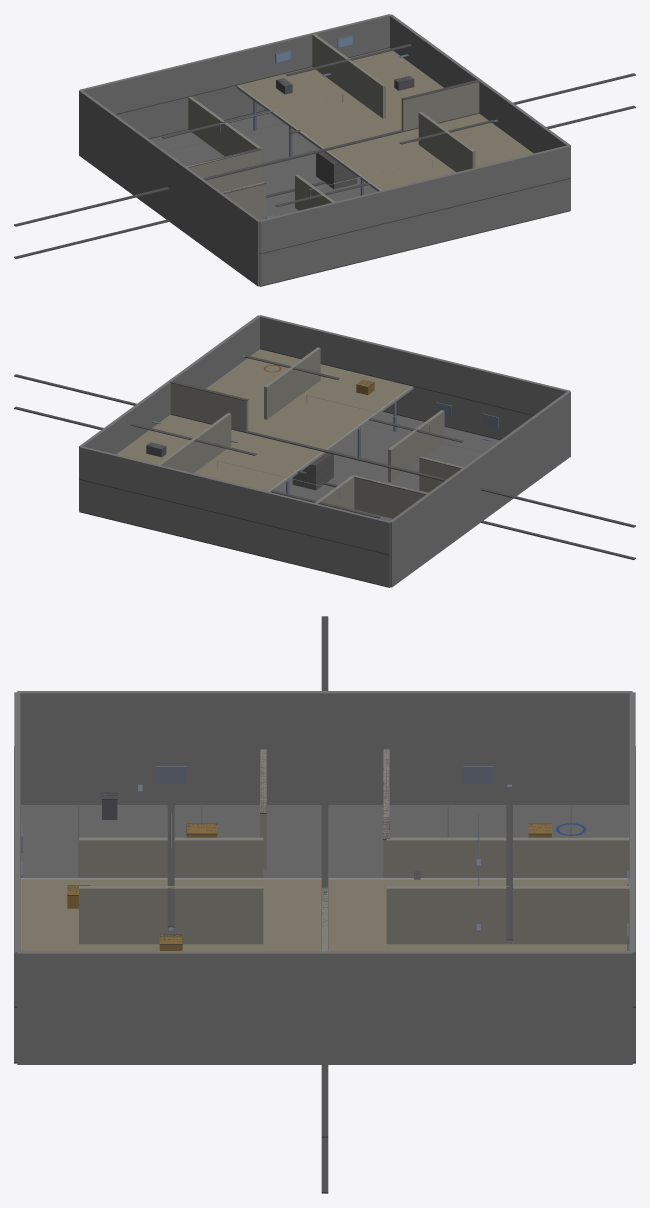
The model's file is office.glb.
3 renders of one model, top to bottom at view 1: azimuth 30°, elevation 25°; view 2: azimuth 150°, elevation 25°; view 3: azimuth 270°, elevation 25°, orthographic. The views are drawn at different scales.
Visible parts, largest first — view 1: floor_2nd_carpet, f2wall_south, gwall_south, f2wall_north, f2wall_west, floor_ground, gwall_west, f2wall_east, gwall_north, f2iwall_div, f2iwall_cross, giwall_corr_n (+14 smaller); view 2: floor_2nd_carpet, f2wall_north, gwall_north, f2wall_south, f2wall_west, gwall_west, floor_ground, f2wall_east, gwall_south, f2iwall_cross, f2iwall_div2, f2iwall_div (+14 smaller); view 3: f2wall_east, f2wall_west, gwall_east, gwall_west, floor_ground, floor_2nd_carpet, f2iwall_div, f2iwall_div2, giwall_corr_n, giwall_corr_s, f2wall_north, f2wall_south (+3 smaller).
Boxes of the visible parts, x1,y1,x2,y2 form: floor_2nd_carpet: [239, 48, 532, 190]; f2wall_south: [259, 145, 570, 253]; gwall_south: [259, 179, 570, 285]; f2wall_north: [79, 14, 390, 113]; f2wall_west: [79, 90, 259, 253]; floor_ground: [150, 110, 377, 220]; gwall_west: [79, 123, 259, 286]; f2wall_east: [390, 14, 570, 177]; gwall_north: [117, 86, 265, 138]; f2iwall_div: [312, 34, 385, 118]; f2iwall_cross: [401, 82, 479, 130]; giwall_corr_n: [188, 96, 261, 180]; floor_2nd_carpet: [117, 349, 410, 491]; f2wall_north: [79, 446, 390, 554]; gwall_north: [79, 480, 390, 586]; f2wall_south: [259, 315, 570, 414]; f2wall_west: [389, 391, 570, 554]; gwall_west: [390, 424, 570, 587]; floor_ground: [275, 411, 499, 521]; f2wall_east: [79, 315, 259, 478]; gwall_south: [384, 387, 532, 439]; f2iwall_cross: [170, 383, 248, 431]; f2iwall_div2: [264, 347, 320, 419]; f2iwall_div: [157, 413, 231, 473]; f2wall_east: [17, 951, 632, 1009]; f2wall_west: [17, 691, 632, 749]; gwall_east: [17, 1009, 632, 1064]; gwall_west: [20, 749, 629, 804]; floor_ground: [20, 805, 629, 877]; floor_2nd_carpet: [21, 879, 627, 950]; f2iwall_div: [386, 886, 629, 944]; f2iwall_div2: [79, 886, 263, 944]; giwall_corr_n: [386, 837, 629, 877]; giwall_corr_s: [79, 837, 263, 877]; f2wall_north: [629, 692, 635, 1006]; f2wall_south: [14, 692, 20, 1006].
Bounding box in the file's own units: 80.02 × 8 × 40.44.
